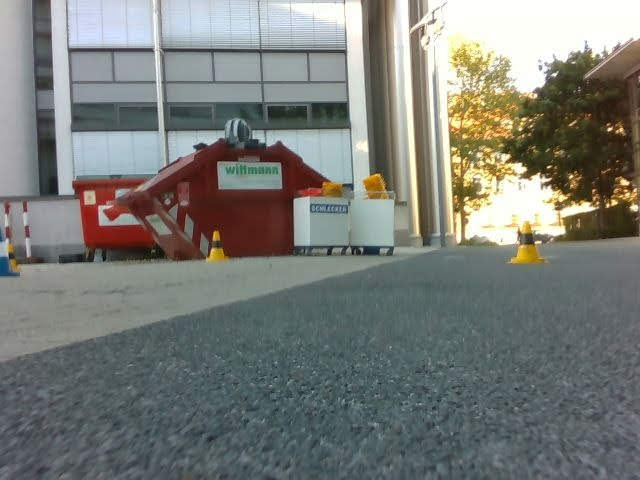cone-blue: (1, 226, 19, 277)
cone-yellow: (511, 222, 544, 265), (207, 231, 227, 261), (3, 242, 20, 272)
